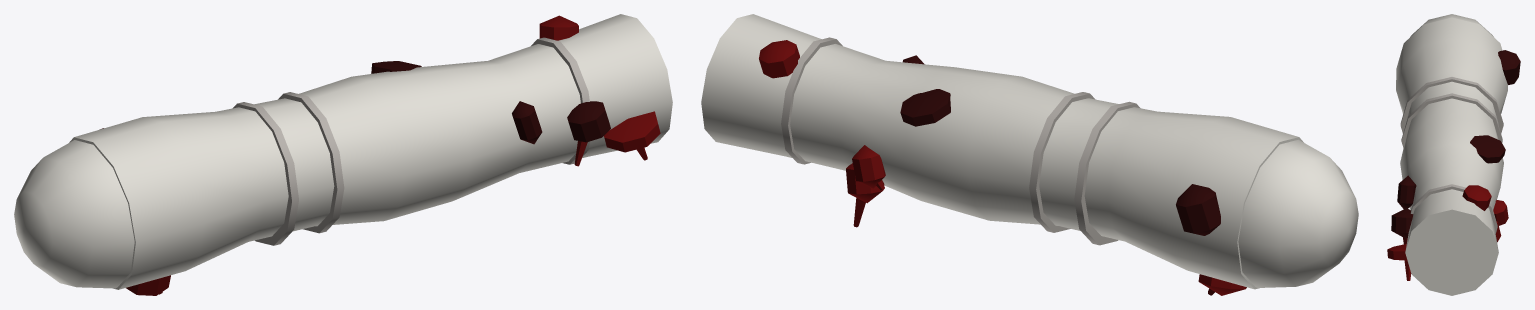
File: ps_arm_a.glb
3 renders of one model, left to right at view 1: azimuth 30°, elevation 25°; view 2: azimuth 150°, elevation 25°; view 3: azimuth 270°, elevation 25°, orthographic. The views are drawn at different scales.
Parts seen in each view (by area): view 1: teil0, teil1, teil3, teil2; view 2: teil0, teil1, teil3, teil2; view 3: teil0, teil2, teil1, teil3.
Part boxes in pixels (x1,y1,x2,y2): teil0: [14, 14, 672, 289]; teil1: [232, 37, 589, 245]; teil3: [126, 15, 660, 295]; teil2: [100, 61, 610, 144]; teil0: [701, 14, 1358, 289]; teil1: [781, 37, 1140, 245]; teil3: [759, 40, 1246, 295]; teil2: [900, 55, 1220, 235]; teil0: [1396, 14, 1507, 295]; teil2: [1391, 50, 1520, 238]; teil1: [1400, 77, 1503, 233]; teil3: [1387, 185, 1508, 280].
Bounding box in the file's own units: 0.7051 × 0.1877 × 0.188.
